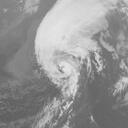cyclone: (33, 32, 92, 99)
